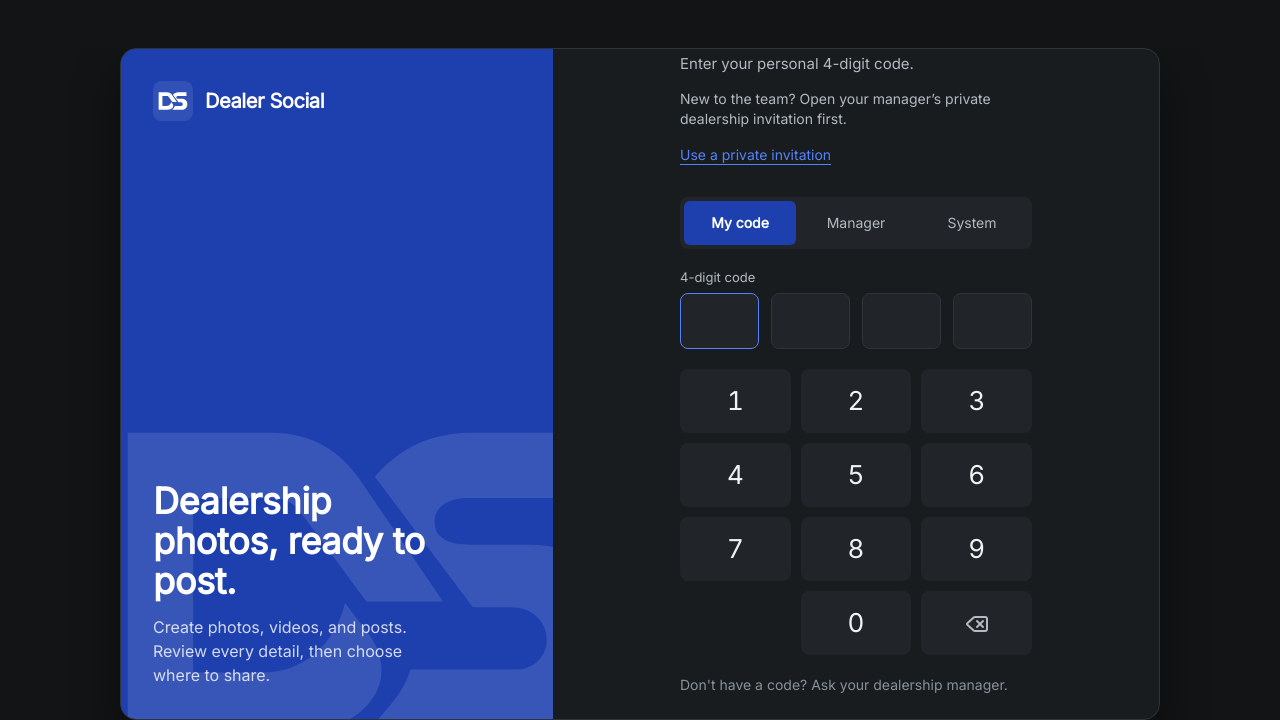
risk-triggered sign-in UX › remounts a fresh challenge after a consumed token is rejected or unavailable
(page scrolled)
Click the button "1": (735, 401) [680,369,791,433]
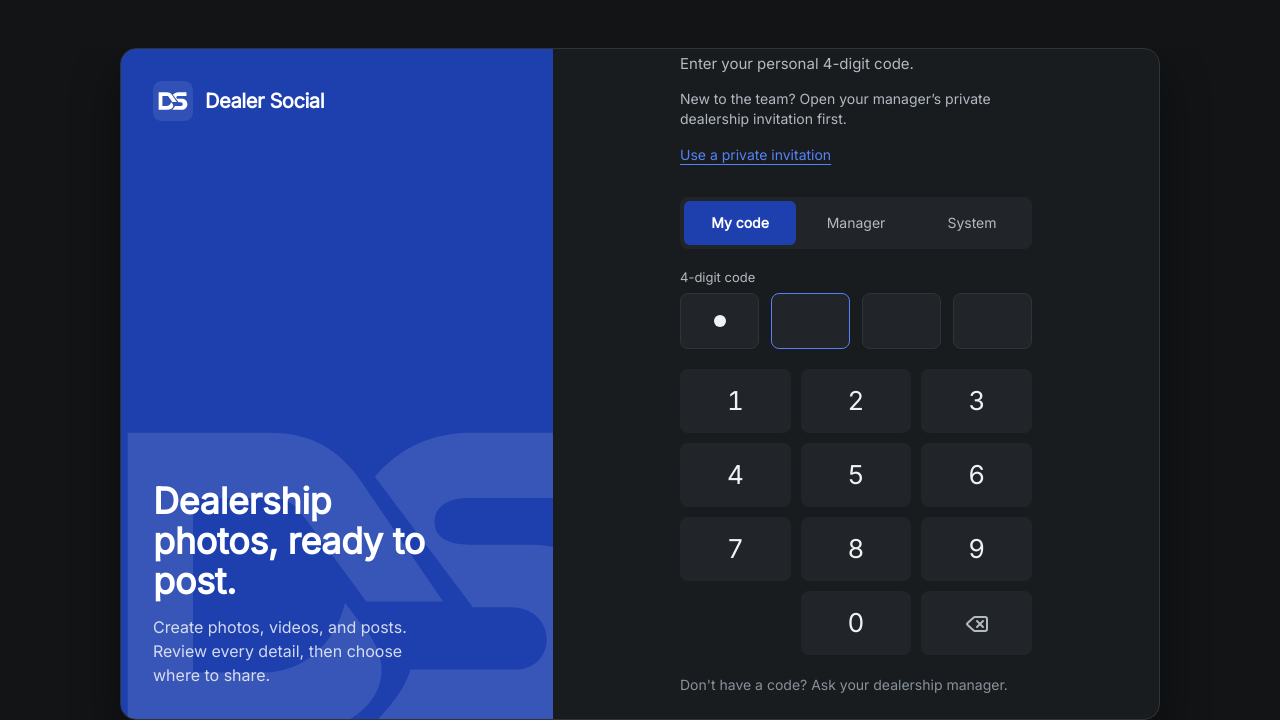
Click the button "2": (856, 401) [801,369,911,433]
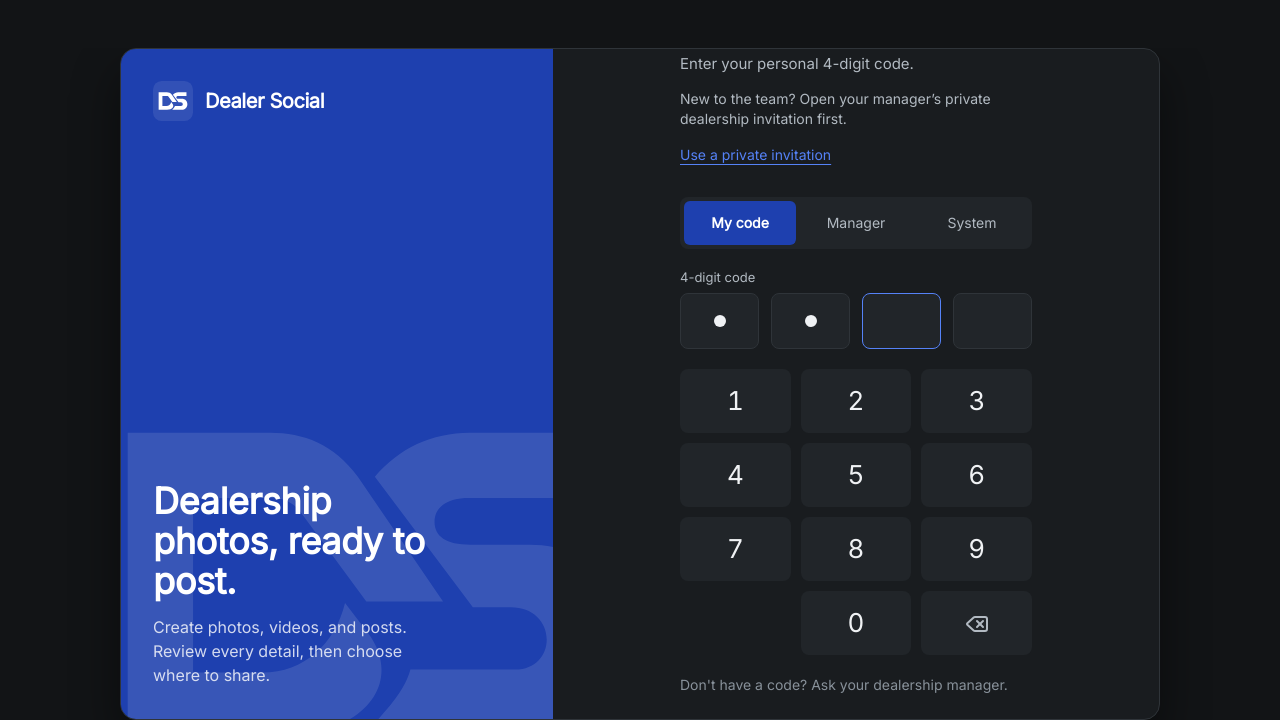
Click the button "3": (977, 401) [921,369,1032,433]
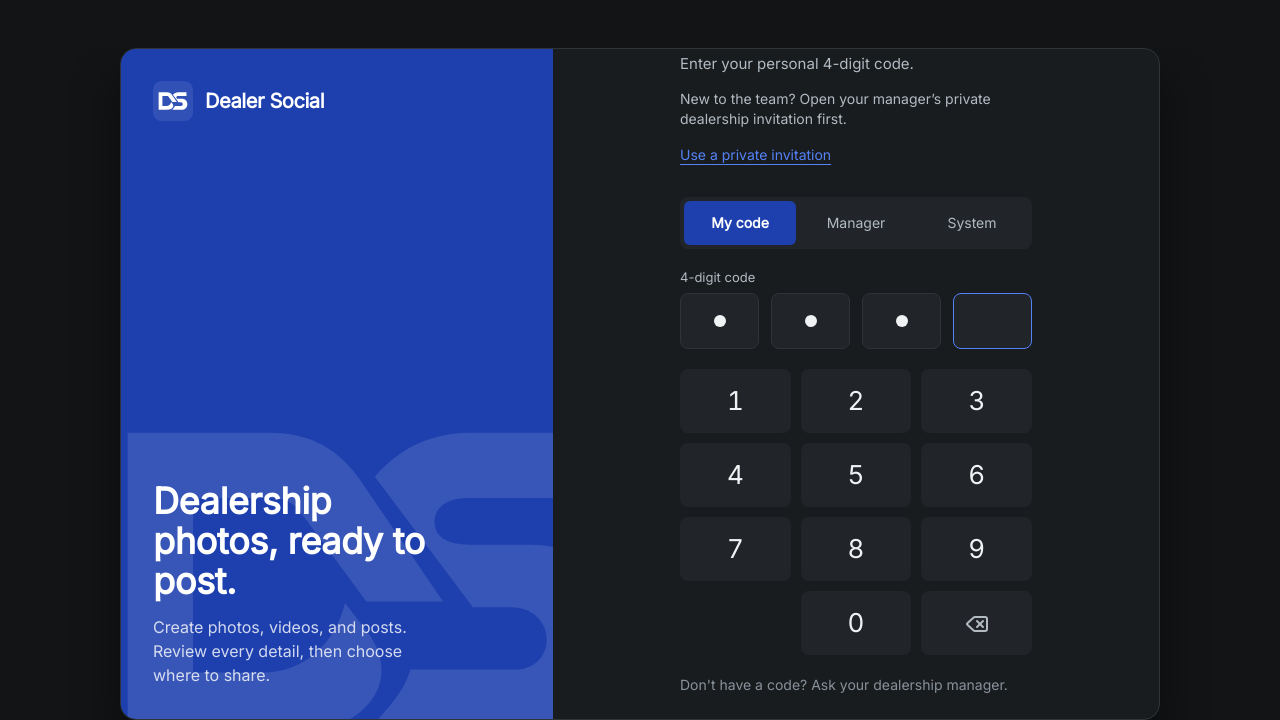
Click the button "4": (735, 475) [680,443,791,507]
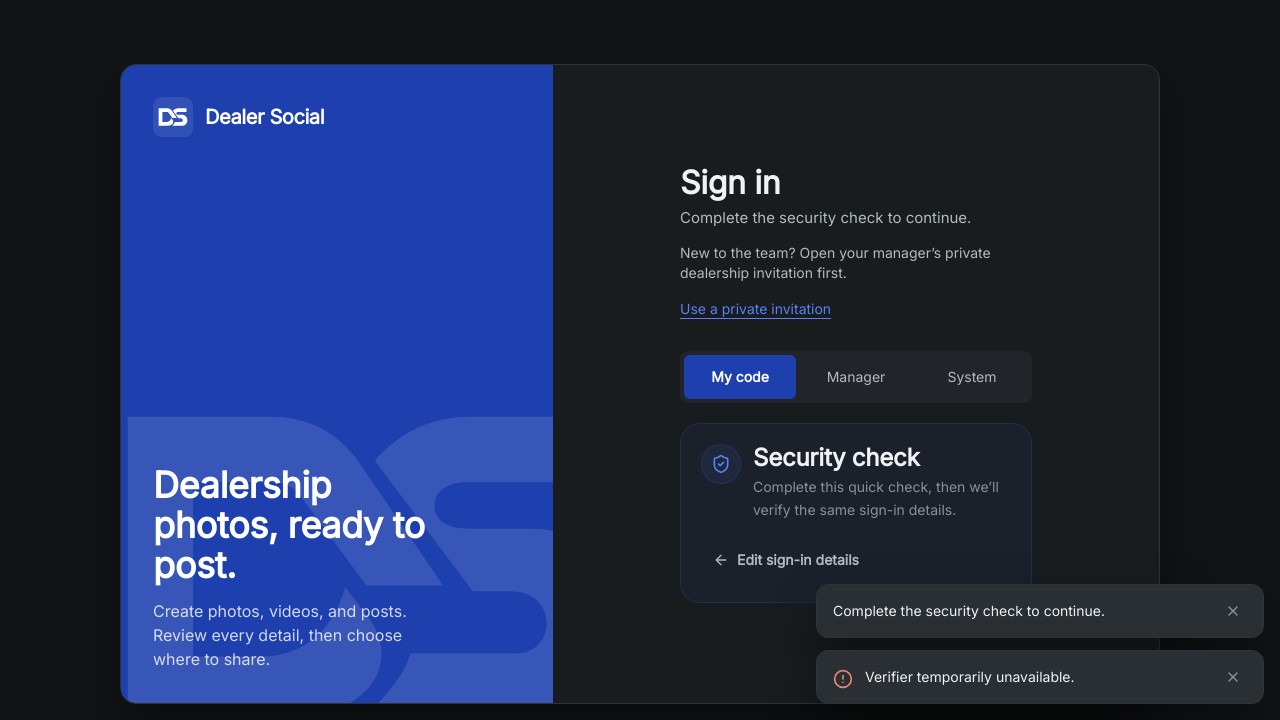
Expected: the heading "Security check" is shown, [753,443,919,472]
Expected: the text "Verifier temporarily unavailable." is shown, [865,668,1075,685]
